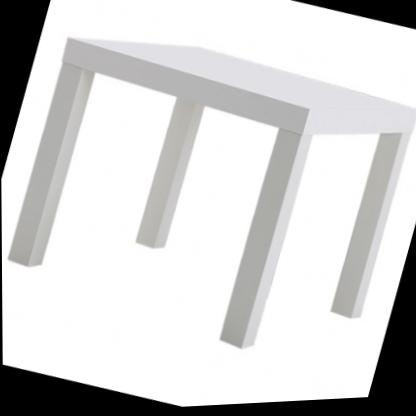Table: (0, 0, 416, 398)
